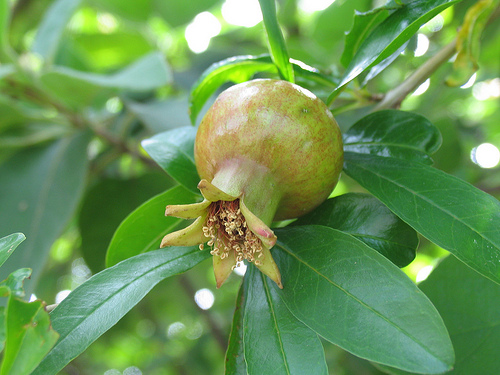pomogranate: (157, 76, 346, 292)
